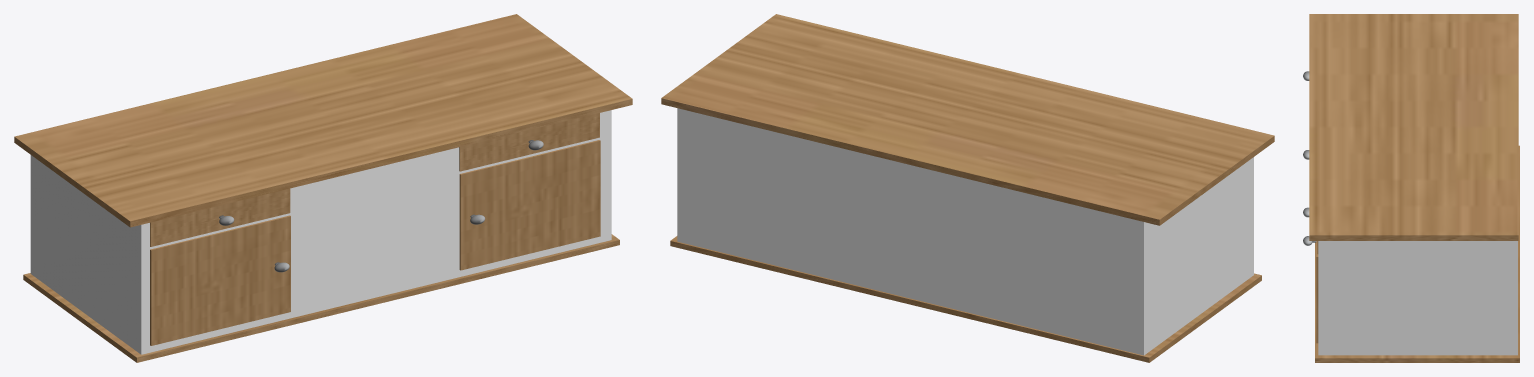
The model's file is Cooker Unit.fbx.
The picture shows the model from 3 angles, left to right: view 1: azimuth 30°, elevation 25°; view 2: azimuth 150°, elevation 25°; view 3: azimuth 270°, elevation 25°; orthographic projection. The views are drawn at different scales.
Visible parts, largest first — view 1: Counter, Base, Door 1.002, Door 1, Base.001, Door 2.002, Door 2; view 2: Base, Counter, Base.001; view 3: Counter, Base, Base.001, Door 1.002.
Part boxes in pixels (bbox=[...]): Counter: bbox=[14, 14, 632, 227]; Base: bbox=[30, 110, 611, 354]; Door 1.002: bbox=[459, 140, 600, 270]; Door 1: bbox=[150, 215, 290, 345]; Base.001: bbox=[23, 234, 619, 362]; Door 2.002: bbox=[459, 113, 599, 171]; Door 2: bbox=[150, 188, 290, 246]; Base: bbox=[677, 108, 1253, 355]; Counter: bbox=[661, 14, 1274, 225]; Base.001: bbox=[670, 236, 1261, 362]; Counter: bbox=[1309, 14, 1518, 240]; Base: bbox=[1318, 241, 1517, 355]; Base.001: bbox=[1315, 145, 1519, 362]; Door 1.002: bbox=[1316, 241, 1318, 343].
Size of the model in its own units: 2.28 by 0.6336 by 0.9436.
11 materials, 11 textured.
